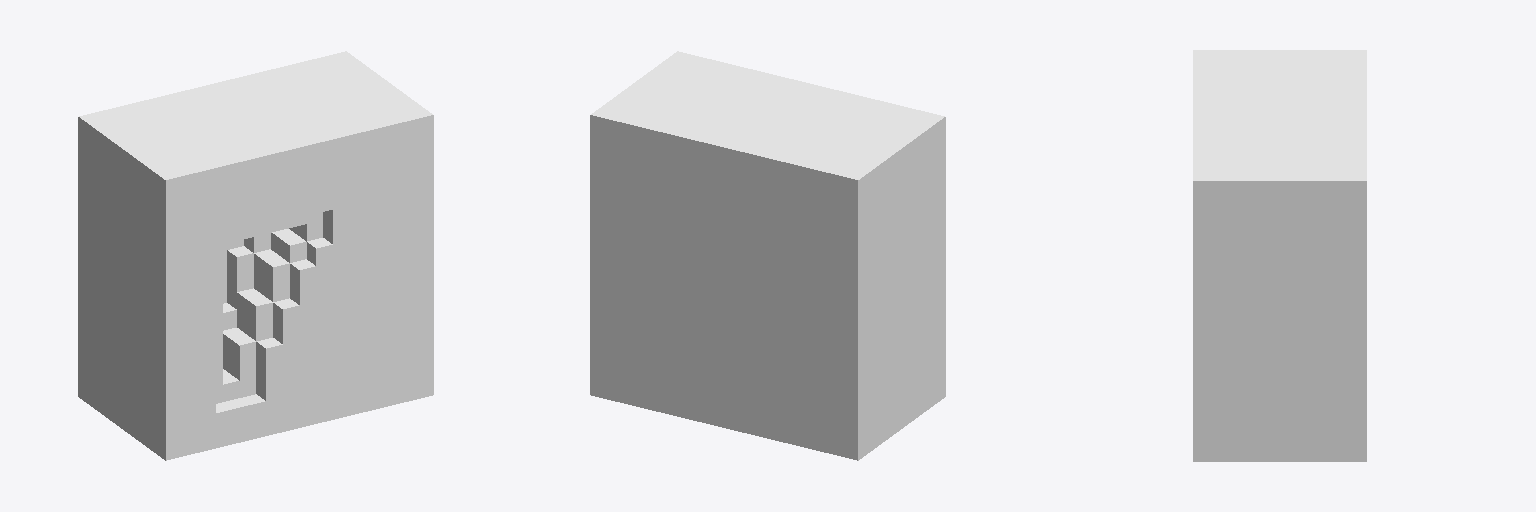
Rendered from wall_new_damaged.obj.
3 views of the same model, side by side, from view 1: azimuth 30°, elevation 25°; view 2: azimuth 150°, elevation 25°; view 3: azimuth 270°, elevation 25° (orthographic).
Bounding box in the file's own units: 16 × 16 × 9.